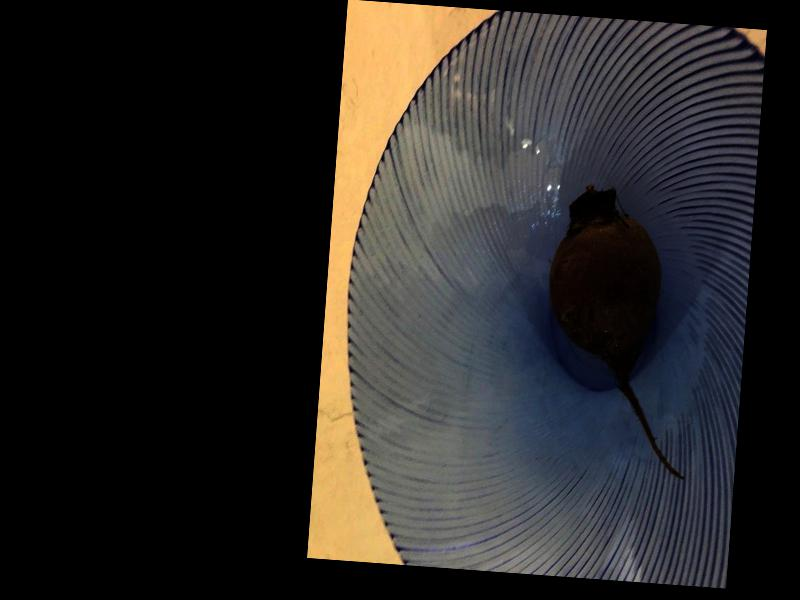Beet: (537, 184, 703, 478)
